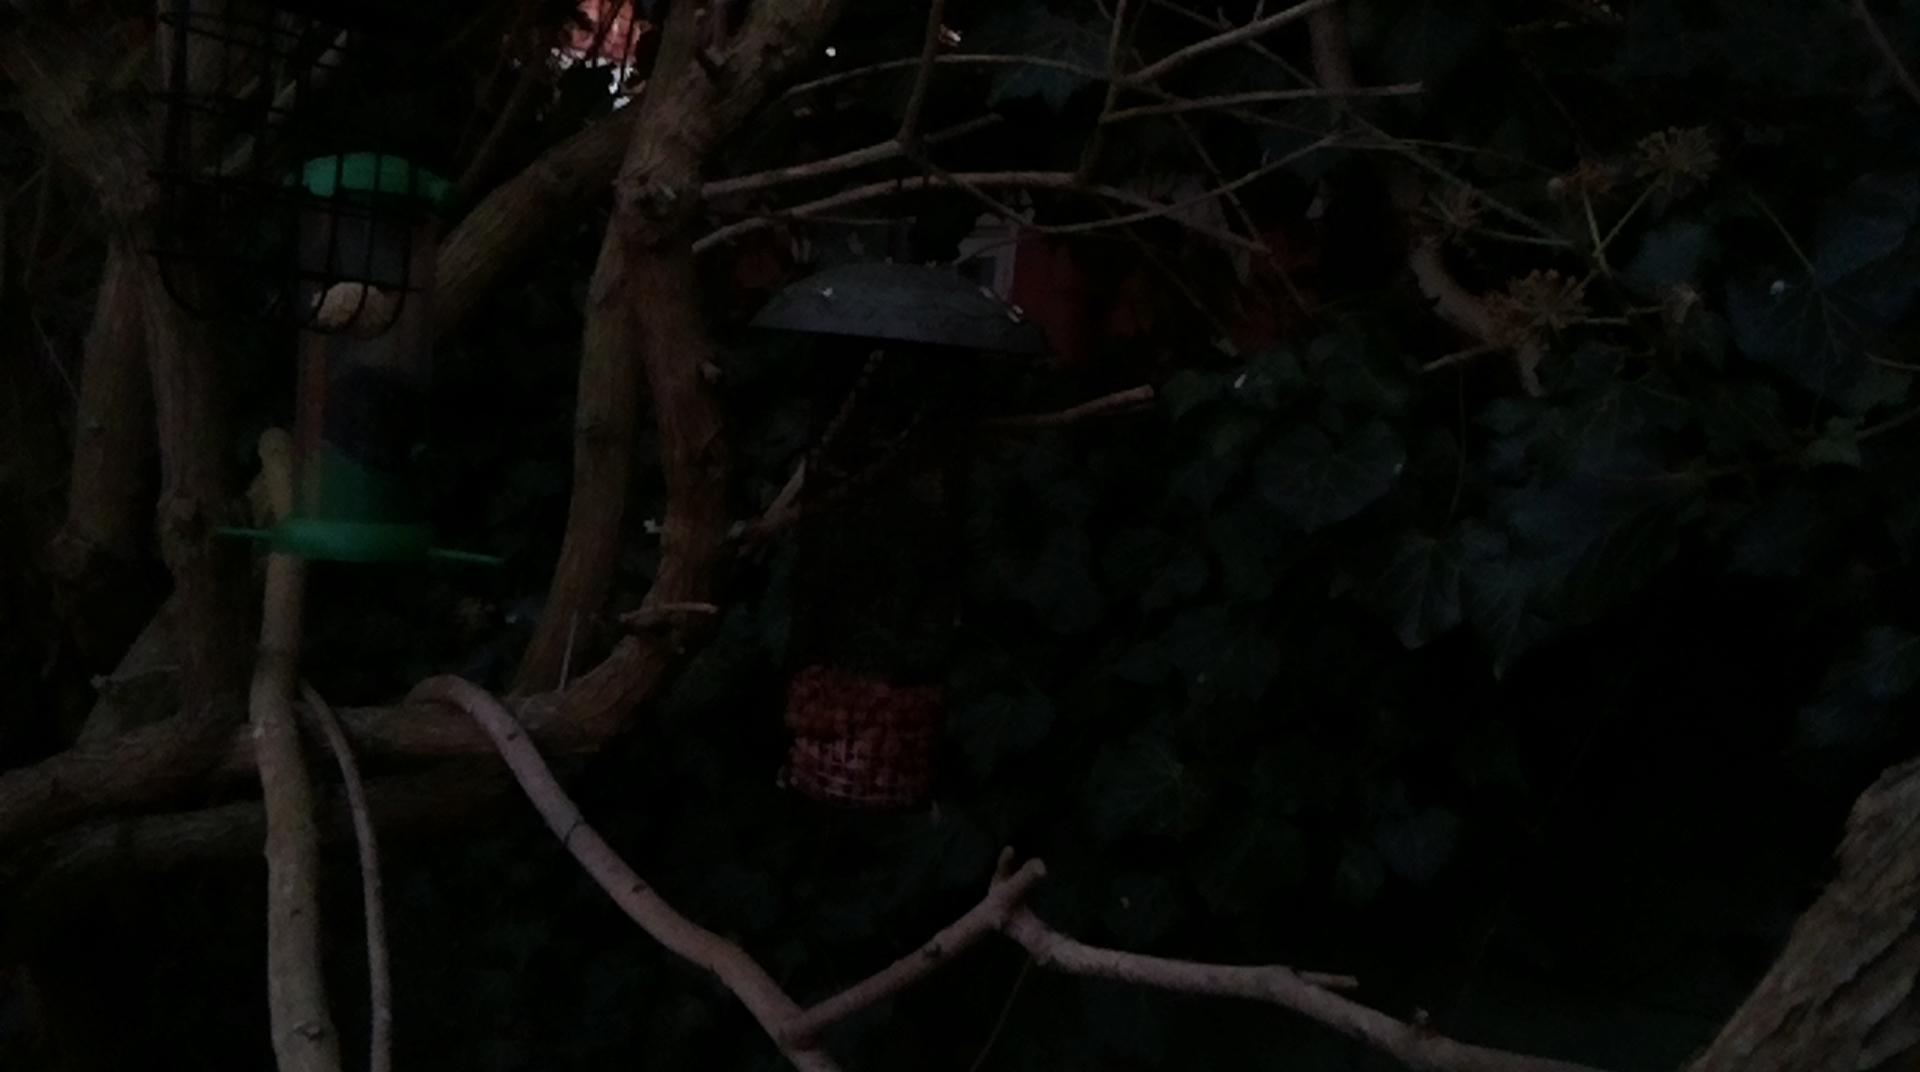unclassified: (1280, 1, 1920, 396)
